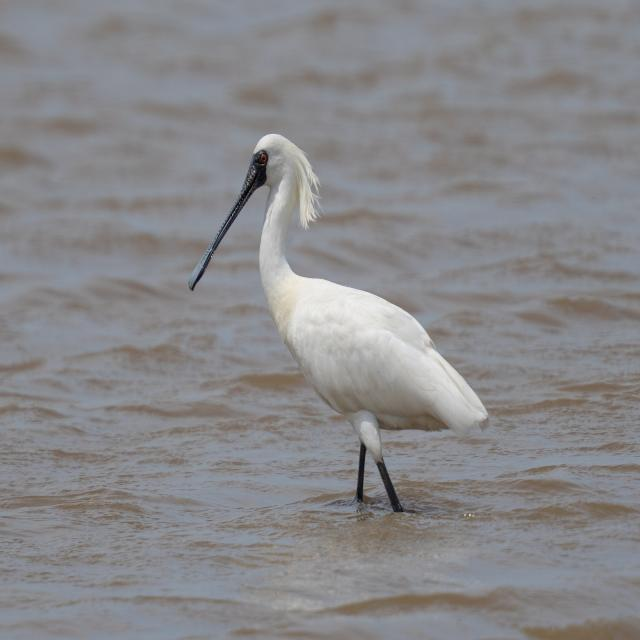Black-faced spoonbill: (190, 134, 487, 511)
